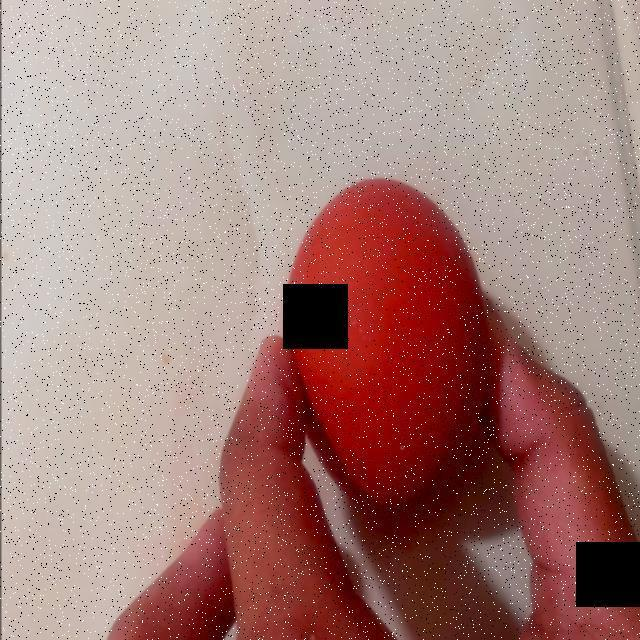egg: (278, 168, 483, 512)
